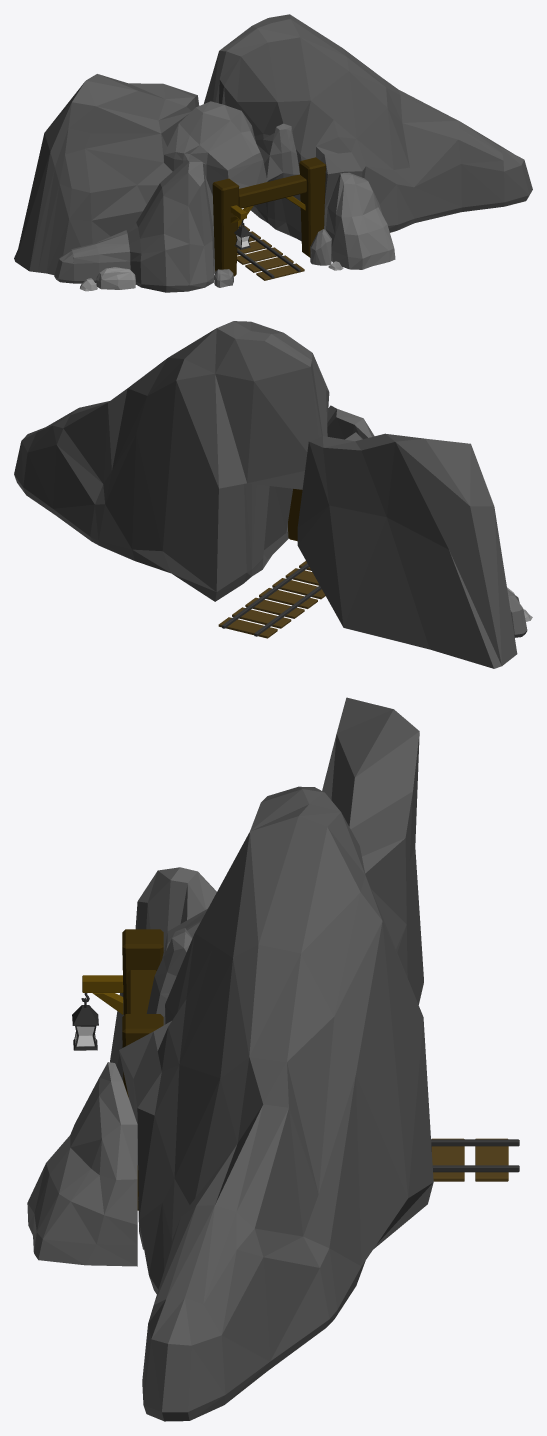
The model's file is Cave_Entry_02.fbx.
3 renders of one model, top to bottom at view 1: azimuth 30°, elevation 25°; view 2: azimuth 150°, elevation 25°; view 3: azimuth 270°, elevation 25°, orthographic. The views are drawn at different scales.
Visible parts, largest first — view 1: set_entrance_cave_stones_goreground_geo_1; view 2: set_entrance_cave_stones_goreground_geo_1; view 3: set_entrance_cave_stones_goreground_geo_1.
Part boxes in pixels (x1=…): set_entrance_cave_stones_goreground_geo_1: x1=14, y1=14, x2=532, y2=292; set_entrance_cave_stones_goreground_geo_1: x1=14, y1=321, x2=532, y2=668; set_entrance_cave_stones_goreground_geo_1: x1=27, y1=697, x2=519, y2=1421.
Bounding box in the file's own units: 1260 × 536 × 589.
